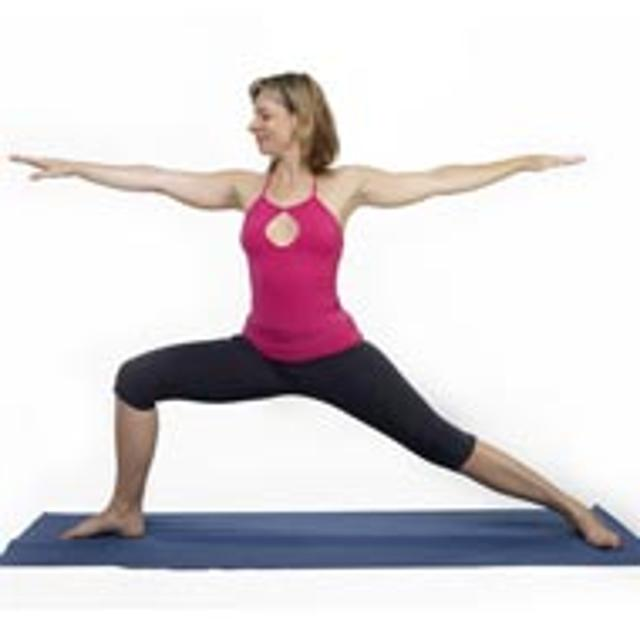Warrior_II: (1, 69, 632, 560)
